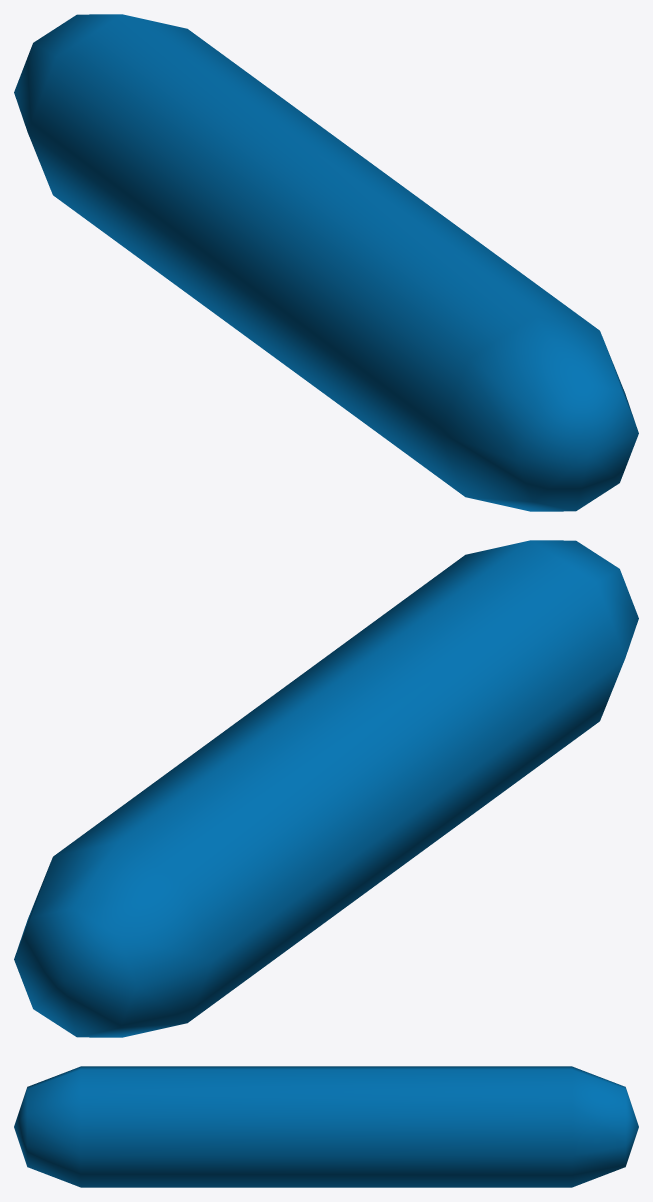
File: Laser_beam_001.fbx
3 views of the same model, one above another, from view 1: azimuth 30°, elevation 25°; view 2: azimuth 150°, elevation 25°; view 3: azimuth 270°, elevation 25° (orthographic). The views are drawn at different scales.
Parts seen in each view (by area): view 1: Laser_beam_001; view 2: Laser_beam_001; view 3: Laser_beam_001.
Boxes of the visible parts, x1,y1,x2,y2 form: Laser_beam_001: (14, 14, 638, 511); Laser_beam_001: (14, 540, 638, 1037); Laser_beam_001: (14, 1066, 638, 1187).
Bounding box in the file's own units: 7.7 × 37.7 × 7.7.
